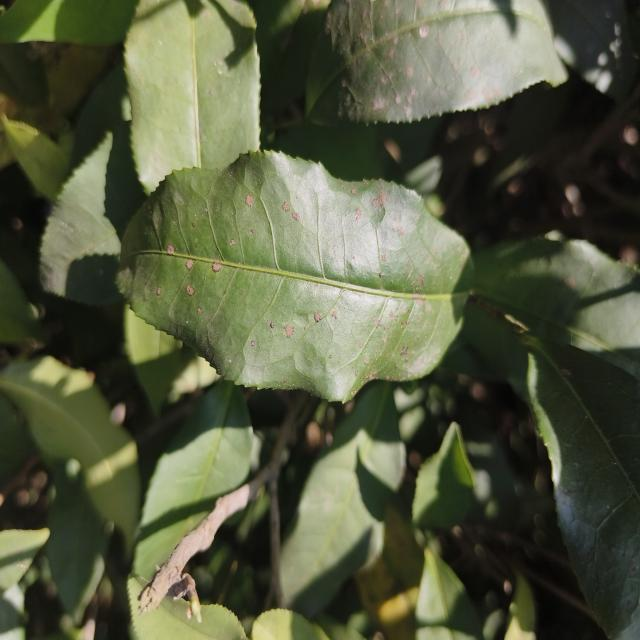Leaf: (118, 151, 472, 401), (522, 337, 640, 640), (306, 0, 566, 124), (282, 382, 405, 616), (460, 238, 640, 397), (0, 356, 140, 552), (124, 0, 260, 192), (134, 379, 253, 578), (40, 124, 145, 304), (46, 459, 110, 624), (128, 577, 247, 640), (124, 305, 185, 415), (412, 422, 474, 528), (415, 547, 482, 640), (0, 0, 138, 45), (1, 115, 69, 201), (0, 259, 43, 344), (0, 528, 50, 591)
